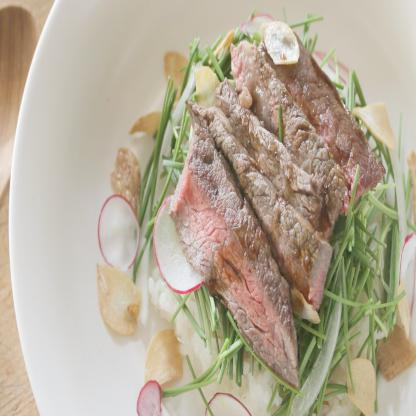Carne: (166, 128, 308, 388), (197, 101, 330, 317), (265, 20, 392, 200), (233, 36, 346, 223), (219, 78, 332, 246)
